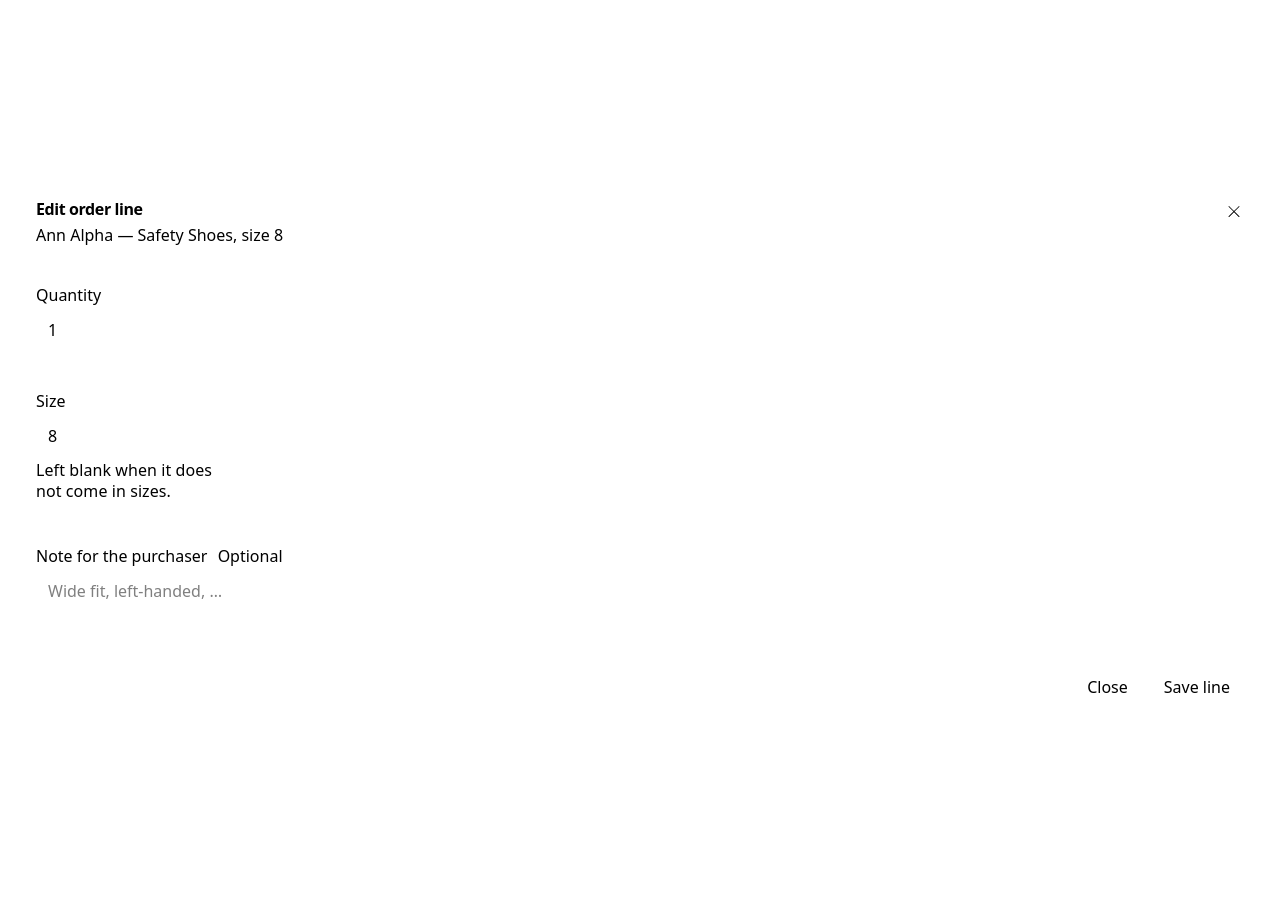
Test: LineEditDialog › refuses a quantity below 1 and saves nothing
Replace the text in the field labelled "Quantity" with "0" at (100, 329), box [36,311,164,347]
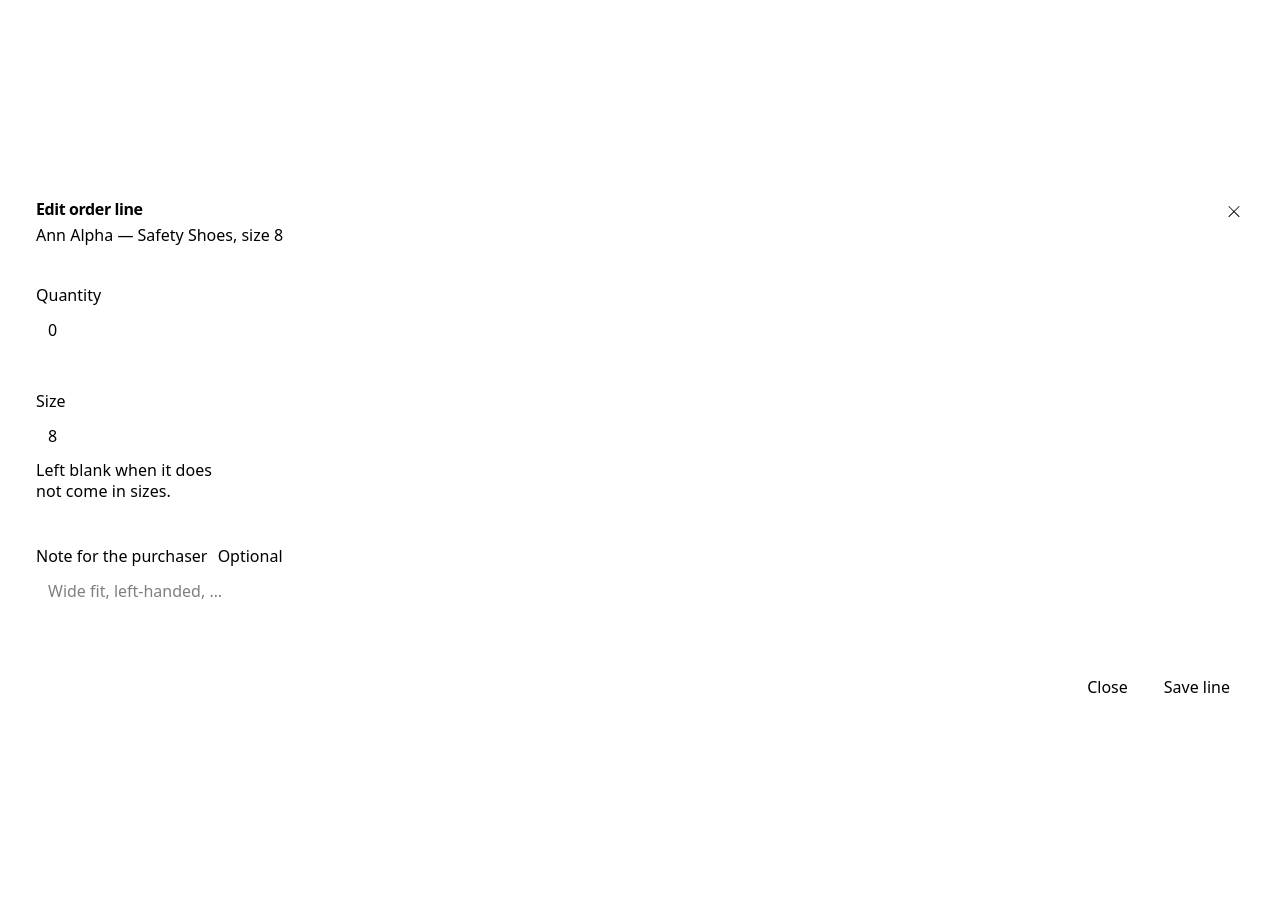
Click the button "Save line" at (1197, 686), box [1150,668,1244,704]
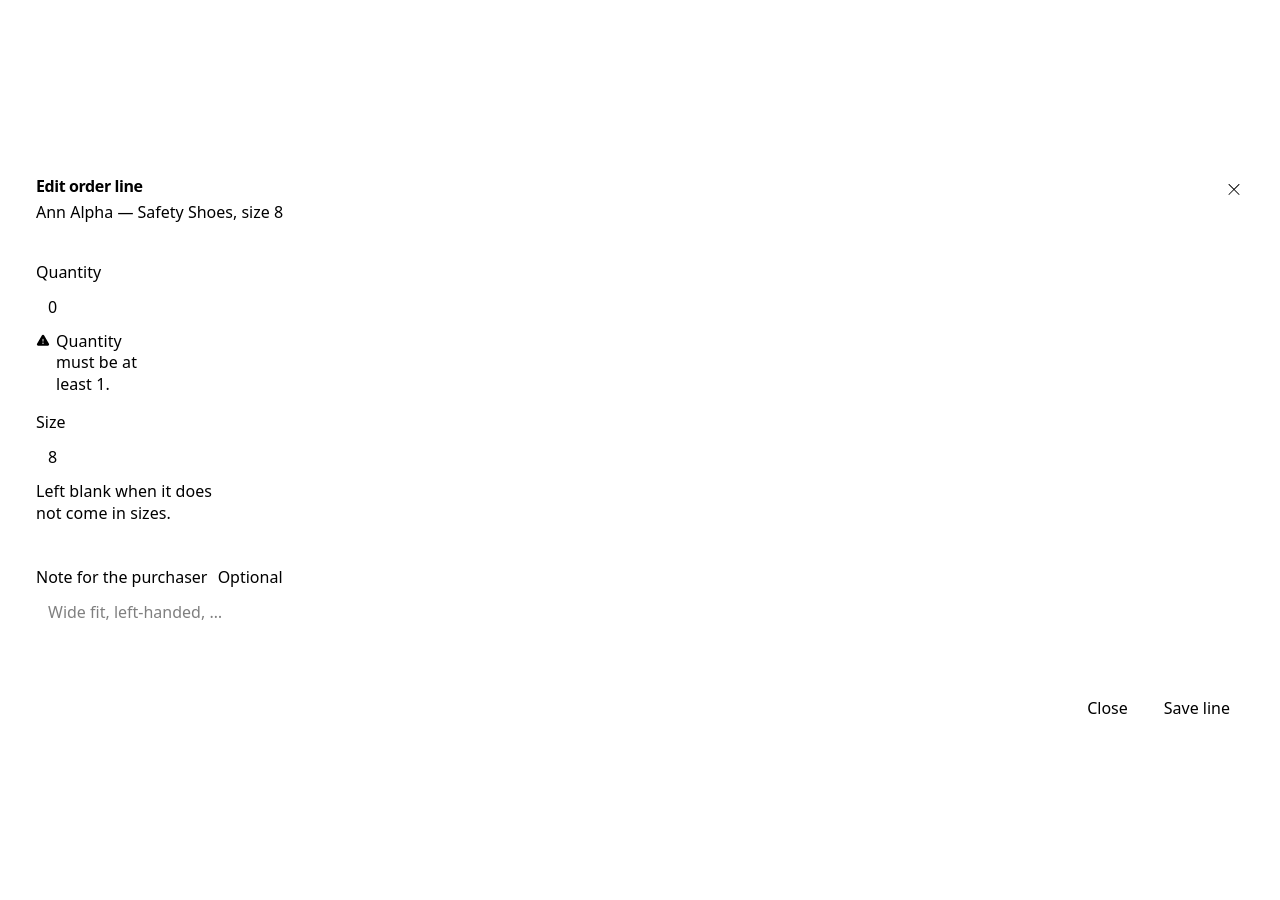
Expected: the text "Quantity must be at least 1." is shown, [56,330,137,395]
